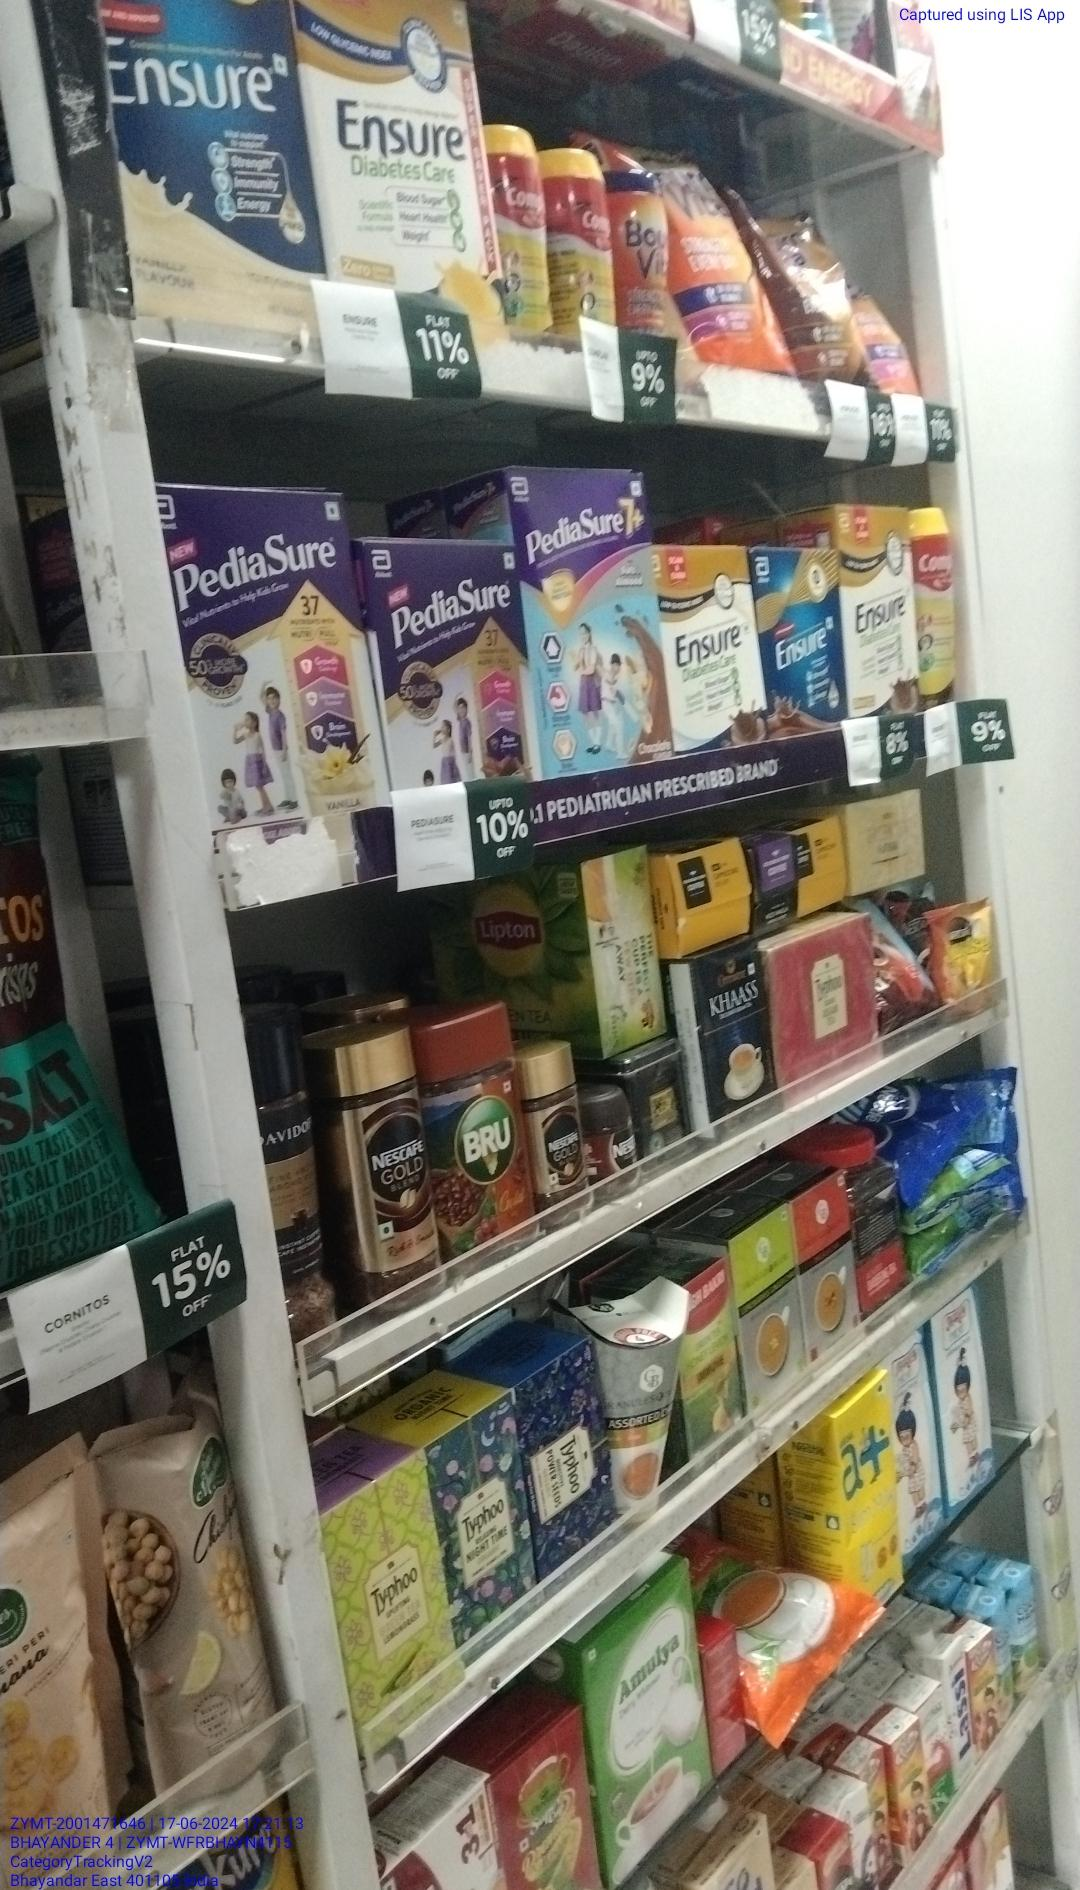PEDIASURE_CHOCOLATE_500_G_PACK: (367, 543, 527, 784)
PEDIASURE_VANILLA_500_G_PACK: (186, 487, 370, 806)
